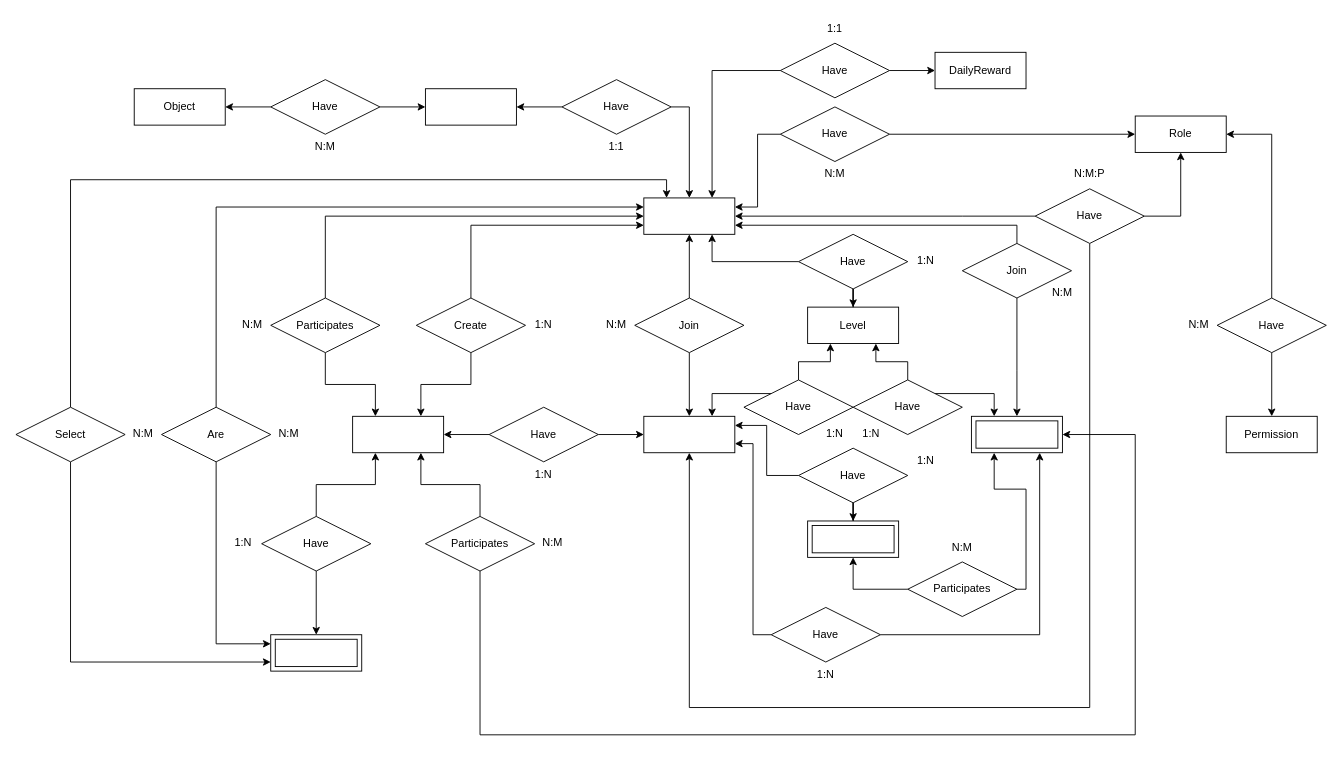
Image size: 1342x758. Some labels were removed from this diagram. Each missing label, with the centre of its shape:
"Bet" goes at pixel 398 434.
"Challenge" goes at pixel 853 538.
"Group" goes at pixel 689 434.
"Inventory" goes at pixel 470 106.
"Option" goes at pixel 316 652.
"Team" goes at pixel 1016 434.
"User" goes at pixel 689 215.
